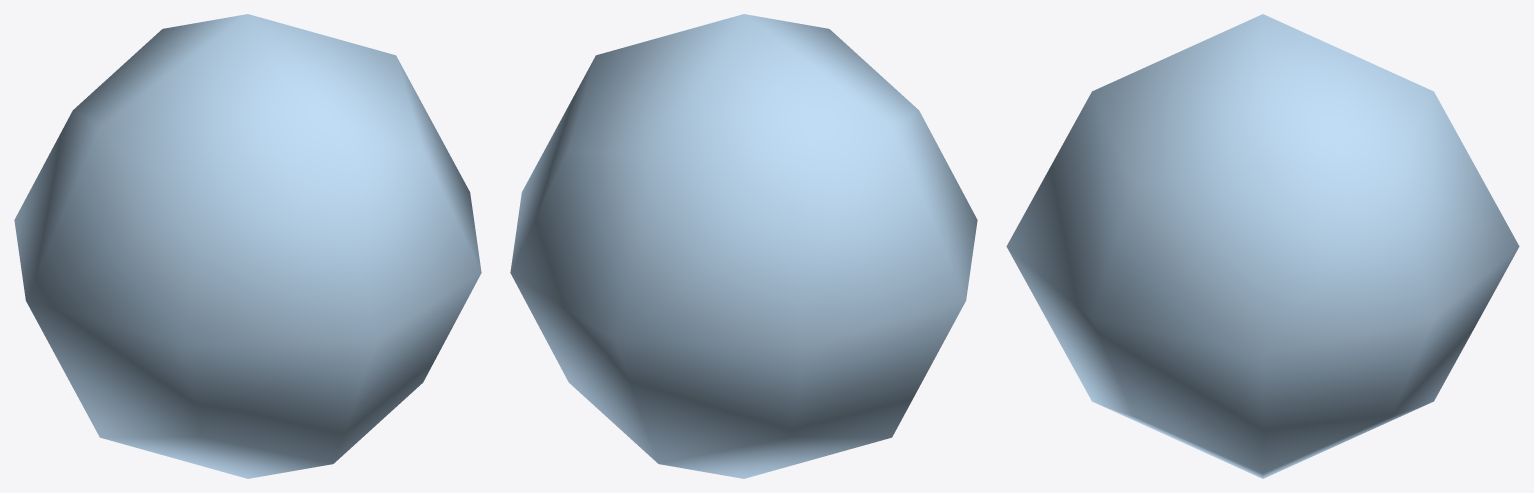
The model's file is garnet-trapezohedron.glb.
3 renders of one model, left to right at view 1: azimuth 30°, elevation 25°; view 2: azimuth 150°, elevation 25°; view 3: azimuth 270°, elevation 25°, orthographic.
Parts seen in each view (by area): view 1: garnet-trapezohedron; view 2: garnet-trapezohedron; view 3: garnet-trapezohedron.
Boxes of the visible parts, x1=… form: garnet-trapezohedron: x1=14, y1=14, x2=481, y2=478; garnet-trapezohedron: x1=510, y1=14, x2=977, y2=478; garnet-trapezohedron: x1=1006, y1=14, x2=1519, y2=478.
Bounding box in the file's own units: 2.45 × 2.45 × 2.45.
